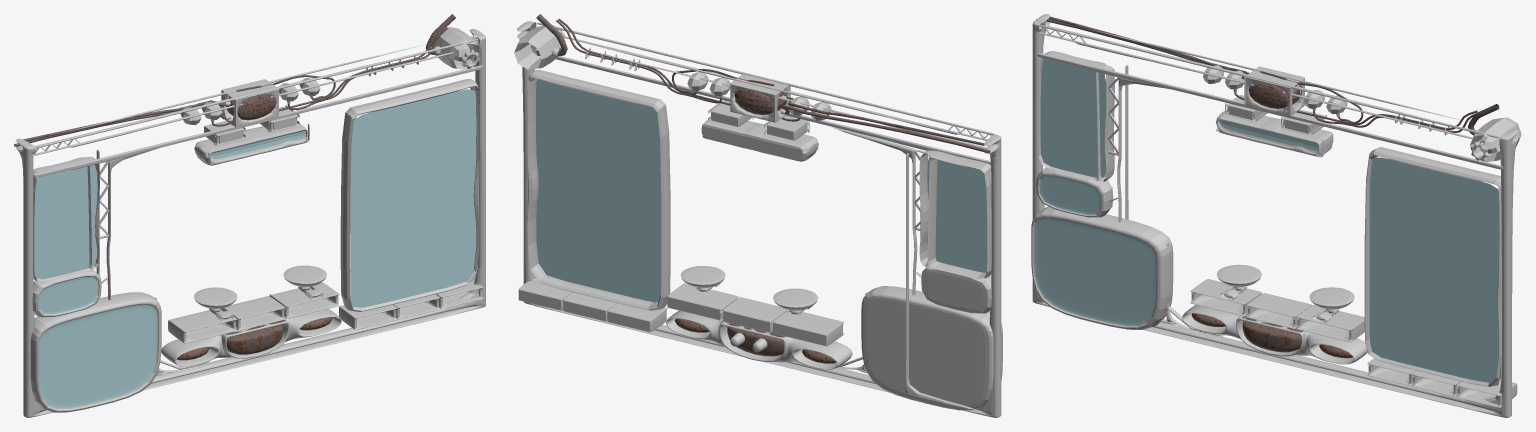
The model's file is SM_MainMenu_Block_00.fbx.
The picture shows the model from 3 angles, left to right: view 1: azimuth 30°, elevation 25°; view 2: azimuth 150°, elevation 25°; view 3: azimuth 330°, elevation 25°; orthographic projection. The views are drawn at different scales.
Parts seen in each view (by area): view 1: mapscreen, chatscreen, SM_MainMenu_Block_00, SM_MainMenu_Block_00.015, SM_MainMenu_Block_00.005, SM_MainMenu_Block_00.001, DLCscreen, SM_MainMenu_Block_00.002, lobbyname, cables, SM_MainMenu_Block_00.007, SM_MainMenu_Block_00.012 (+9 smaller); view 2: mapscreen, chatscreen, SM_MainMenu_Block_00.015, SM_MainMenu_Block_00, cables, SM_MainMenu_Block_00.001, SM_MainMenu_Block_00.005, SM_MainMenu_Block_00.002, lobbyname, DLCscreen, SM_MainMenu_Block_00.008, SM_MainMenu_Block_00.007 (+9 smaller); view 3: mapscreen, chatscreen, SM_MainMenu_Block_00, SM_MainMenu_Block_00.015, SM_MainMenu_Block_00.005, SM_MainMenu_Block_00.001, DLCscreen, lobbyname, SM_MainMenu_Block_00.002, cables, SM_MainMenu_Block_00.008, SM_MainMenu_Block_00.023 (+9 smaller).
Boxes of the visible parts, x1,y1,x2,y2 form: mapscreen: [338, 79, 483, 329]; chatscreen: [30, 292, 161, 412]; SM_MainMenu_Block_00: [16, 29, 485, 417]; SM_MainMenu_Block_00.015: [33, 156, 99, 281]; SM_MainMenu_Block_00.005: [33, 52, 483, 177]; SM_MainMenu_Block_00.001: [161, 309, 341, 366]; DLCscreen: [32, 269, 101, 317]; SM_MainMenu_Block_00.002: [34, 39, 478, 148]; lobbyname: [194, 123, 309, 165]; cables: [14, 14, 455, 146]; SM_MainMenu_Block_00.007: [168, 310, 237, 343]; SM_MainMenu_Block_00.012: [223, 294, 286, 330]; mapscreen: [518, 70, 670, 332]; chatscreen: [861, 286, 1002, 410]; SM_MainMenu_Block_00.015: [919, 150, 991, 278]; SM_MainMenu_Block_00: [517, 21, 1001, 417]; cables: [536, 14, 990, 153]; SM_MainMenu_Block_00.001: [666, 310, 852, 369]; SM_MainMenu_Block_00.005: [555, 36, 990, 164]; SM_MainMenu_Block_00.002: [537, 22, 995, 135]; lobbyname: [701, 119, 818, 161]; DLCscreen: [921, 267, 991, 313]; SM_MainMenu_Block_00.008: [831, 127, 977, 410]; SM_MainMenu_Block_00.007: [773, 310, 844, 346]; mapscreen: [1364, 147, 1517, 407]; chatscreen: [1031, 206, 1173, 329]; SM_MainMenu_Block_00: [1032, 14, 1518, 417]; SM_MainMenu_Block_00.015: [1038, 51, 1114, 181]; SM_MainMenu_Block_00.005: [1038, 26, 1503, 169]; SM_MainMenu_Block_00.001: [1182, 305, 1367, 364]; DLCscreen: [1036, 167, 1113, 217]; lobbyname: [1216, 110, 1333, 157]; SM_MainMenu_Block_00.002: [1038, 24, 1498, 137]; cables: [1046, 16, 1499, 135]; SM_MainMenu_Block_00.008: [1108, 65, 1224, 336]; SM_MainMenu_Block_00.023: [1296, 305, 1364, 342].
Size of the model in its own units: 2012 by 1216 by 215.
